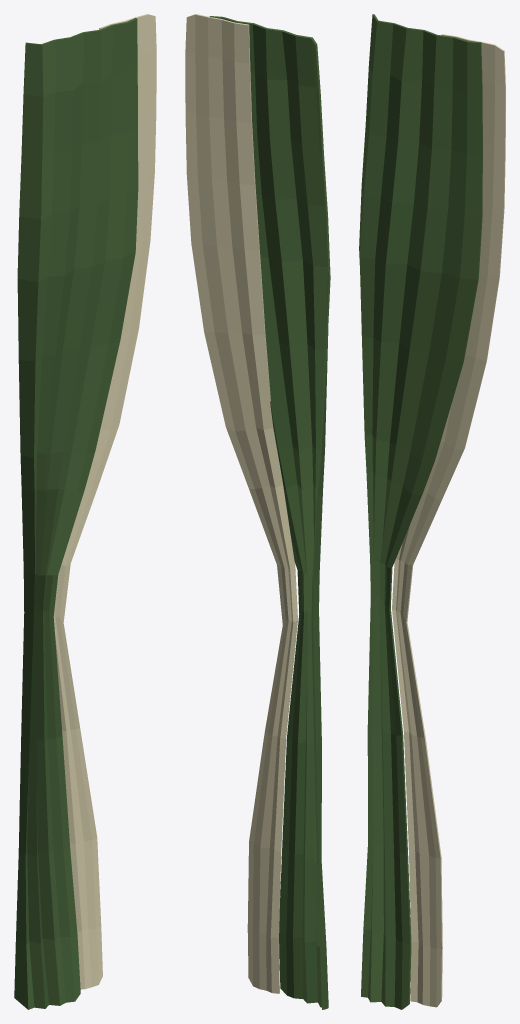
The model's file is Curtain_3_L.fbx.
The picture shows the model from 3 angles, left to right: view 1: azimuth 30°, elevation 25°; view 2: azimuth 150°, elevation 25°; view 3: azimuth 330°, elevation 25°; orthographic projection.
Visible parts, largest first — view 1: Curtain_3_L; view 2: Curtain_3_L; view 3: Curtain_3_L.
Boxes of the visible parts, x1,y1,x2,y2 form: Curtain_3_L: [14, 14, 156, 1009]; Curtain_3_L: [185, 14, 330, 1009]; Curtain_3_L: [359, 14, 505, 1009].
Size of the model in its own units: 30 by 195 by 6.
